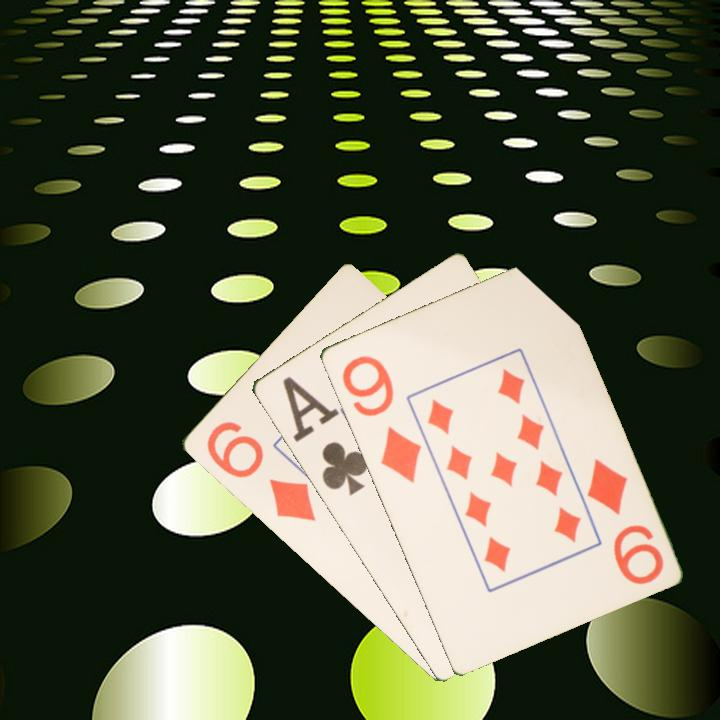6d: (202, 417, 319, 525)
9d: (337, 351, 424, 486), (582, 455, 666, 588)
Ac: (278, 372, 371, 499)
